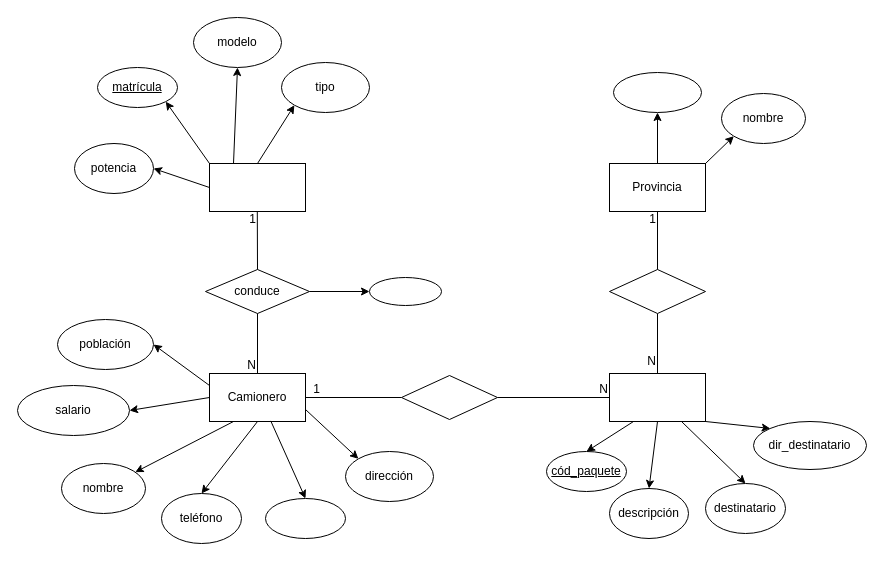
This 884x561 diagram has some shape labels left out. The centre of each missing label's shape, as x and y in pixels:
Camión: (x=257, y=187)
cód_provincia: (x=657, y=92)
distribuye: (x=449, y=397)
dni: (x=305, y=518)
fecha: (x=405, y=291)
llega: (x=657, y=291)
Paquete: (x=657, y=397)
